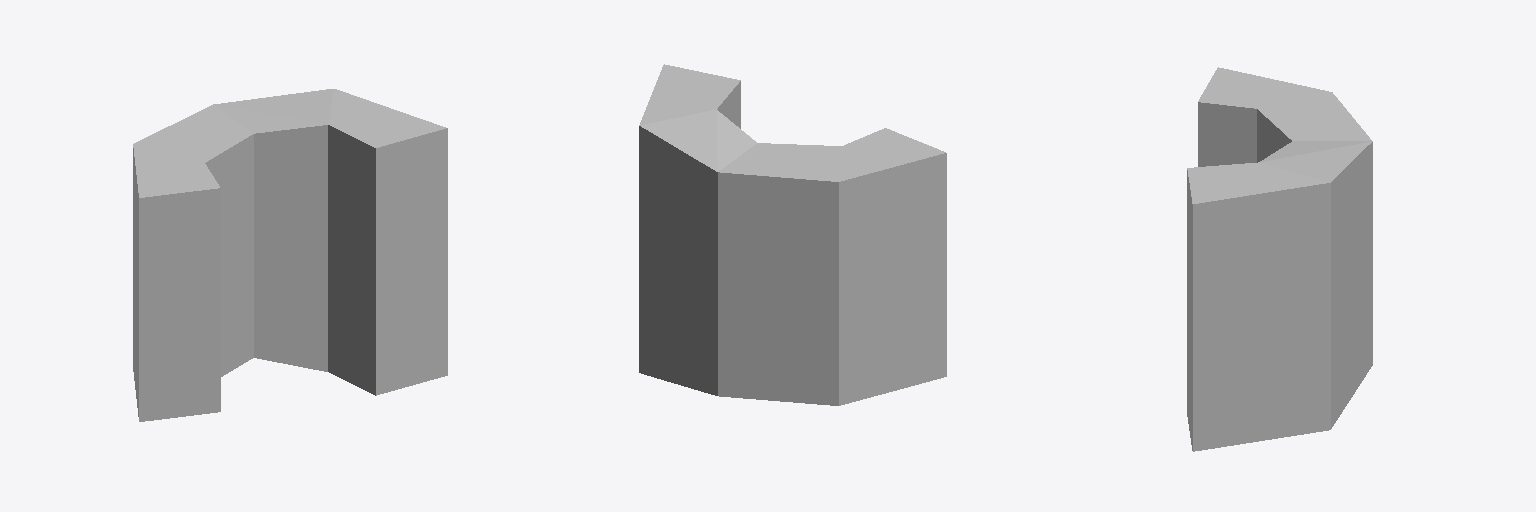
The model's file is PrincessBoolSection.obj.
3 views of the same model, side by side, from view 1: azimuth 30°, elevation 25°; view 2: azimuth 150°, elevation 25°; view 3: azimuth 270°, elevation 25° (orthographic).
Visible parts, largest first — view 1: pCube1; view 2: pCube1; view 3: pCube1.
Part boxes in pixels (bbox=[...]): pCube1: bbox=[133, 89, 447, 421]; pCube1: bbox=[639, 64, 946, 405]; pCube1: bbox=[1187, 67, 1372, 451].
Bounding box in the file's own units: 13.82 × 11.05 × 7.5.